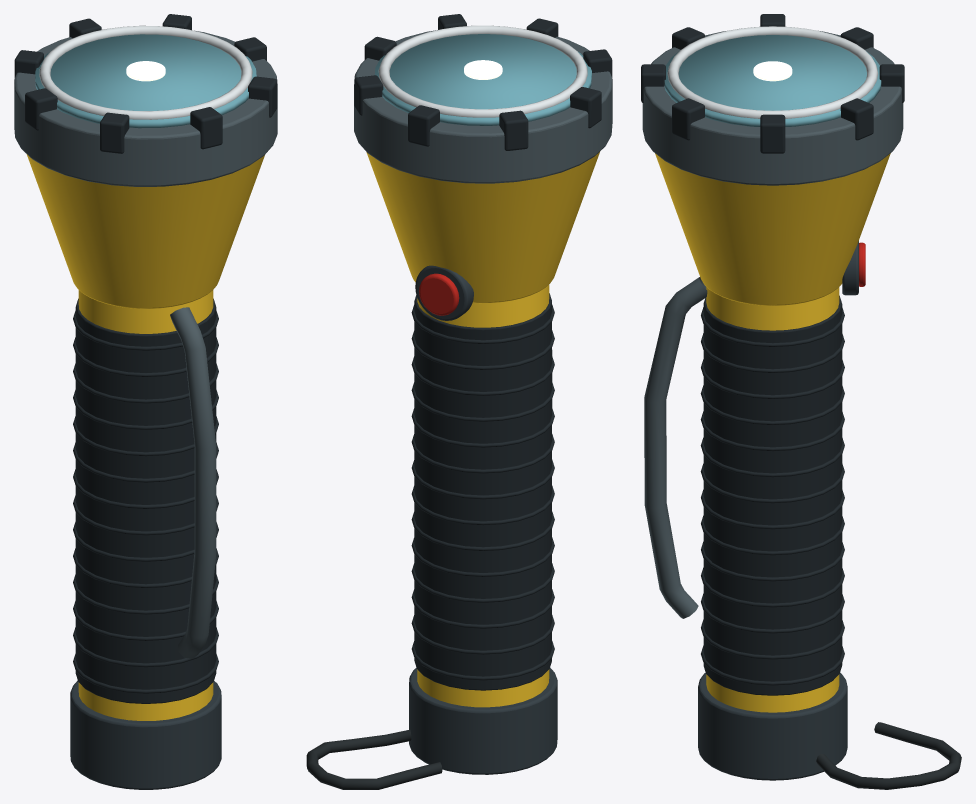
File: rescue_flashlight.glb
3 renders of one model, left to right at view 1: azimuth 30°, elevation 25°; view 2: azimuth 150°, elevation 25°; view 3: azimuth 270°, elevation 25°, orthographic.
Parts seen in each view (by area): view 1: rescue_flashlight_render_mesh; view 2: rescue_flashlight_render_mesh; view 3: rescue_flashlight_render_mesh.
Part boxes in pixels (bbox=[...]): rescue_flashlight_render_mesh: bbox=[14, 14, 277, 789]; rescue_flashlight_render_mesh: bbox=[306, 14, 612, 789]; rescue_flashlight_render_mesh: bbox=[641, 14, 961, 789].
Bounding box in the file's own units: 0.095 × 0.271 × 0.1156.
